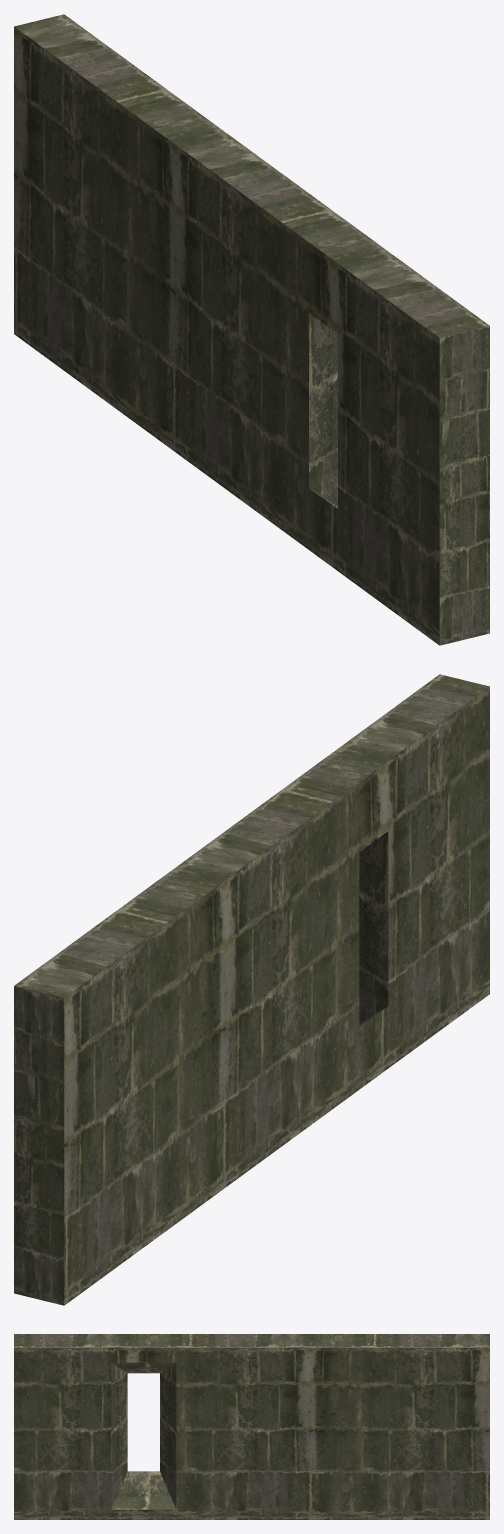
File: HorizontalHalfWall_Arrowslit_L.fbx
The picture shows the model from 3 angles, top to bottom: view 1: azimuth 30°, elevation 25°; view 2: azimuth 150°, elevation 25°; view 3: azimuth 270°, elevation 25°; orthographic projection. The views are drawn at different scales.
Visible parts, largest first — view 1: HorizontalHalfWall_Arrowslit_L; view 2: HorizontalHalfWall_Arrowslit_L; view 3: HorizontalHalfWall_Arrowslit_L.
Part boxes in pixels (x1=…): HorizontalHalfWall_Arrowslit_L: x1=14, y1=14, x2=489, y2=645; HorizontalHalfWall_Arrowslit_L: x1=14, y1=674, x2=489, y2=1305; HorizontalHalfWall_Arrowslit_L: x1=14, y1=1334, x2=489, y2=1519.
Bounding box in the file's own units: 51 × 298 × 748.
